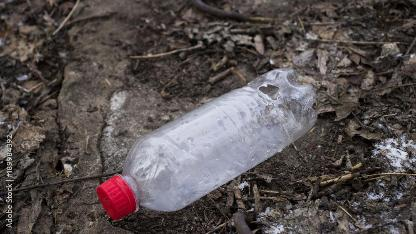Plastic Bottle: (97, 69, 317, 220)
